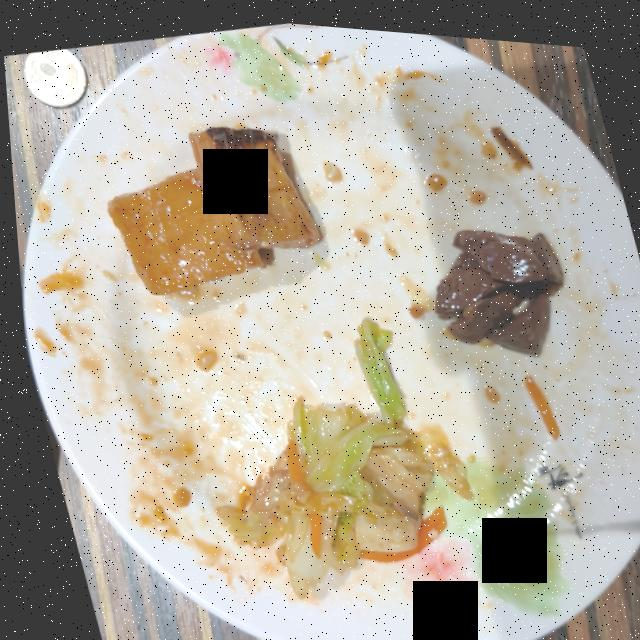cabbage: (208, 312, 465, 594)
coin: (23, 48, 86, 106)
creamy tofu: (105, 123, 317, 293)
pig blood curd: (430, 222, 560, 347)
